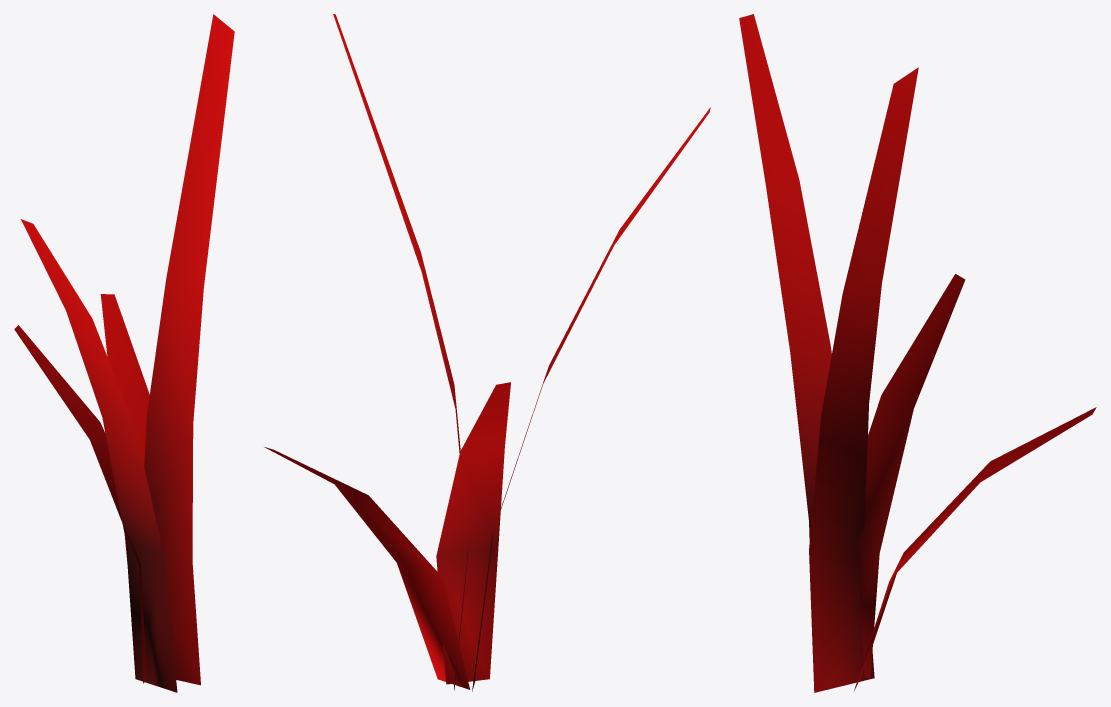
The model's file is SM_SugarCanePlants_3.fbx.
The picture shows the model from 3 angles, left to right: view 1: azimuth 30°, elevation 25°; view 2: azimuth 150°, elevation 25°; view 3: azimuth 270°, elevation 25°; orthographic projection. The views are drawn at different scales.
Visible parts, largest first — view 1: SM_SugarCanePlants_3; view 2: SM_SugarCanePlants_3; view 3: SM_SugarCanePlants_3.
Part boxes in pixels (left/top/right/bottom): SM_SugarCanePlants_3: left=14, top=14, right=234, bottom=692; SM_SugarCanePlants_3: left=264, top=14, right=710, bottom=691; SM_SugarCanePlants_3: left=739, top=14, right=1096, bottom=692.
Bounding box in the file's own units: 0.2049 × 0.435 × 0.2138.
